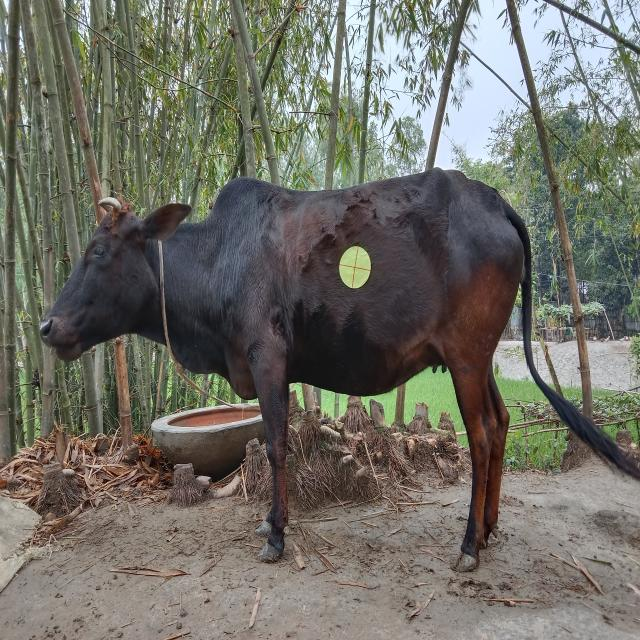badan_sapi: (223, 190, 515, 392)
sapi: (33, 169, 604, 589)
